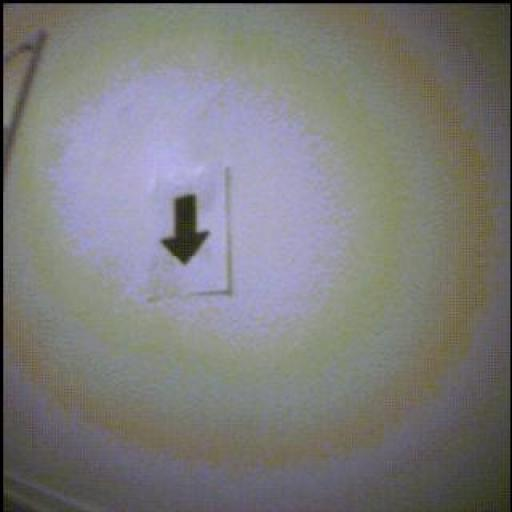arrow: (5, 32, 48, 179), (163, 196, 211, 265)
